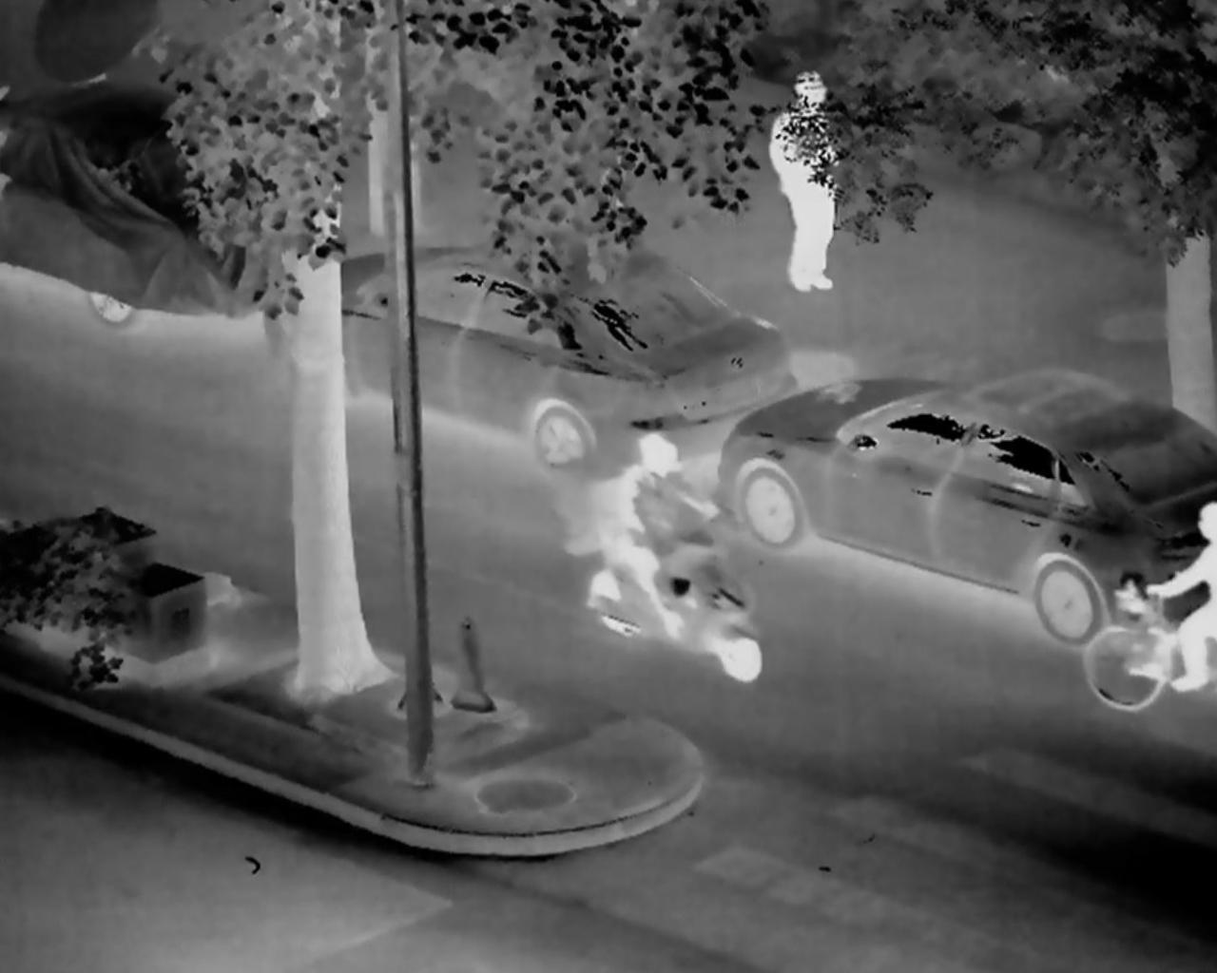person: (765, 74, 860, 307), (609, 429, 711, 623), (1138, 483, 1217, 705)
